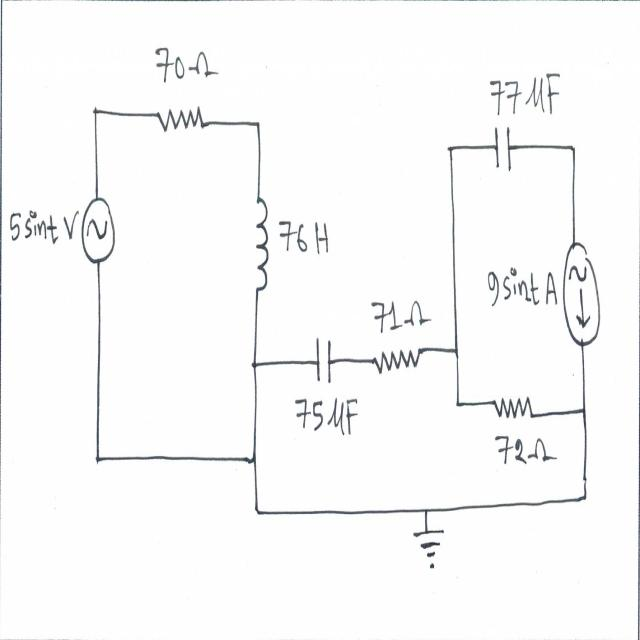ac_current: (81, 177, 116, 279)
capacitor: (492, 116, 514, 180), (313, 326, 334, 388)
current_source: (558, 230, 604, 352)
ground: (412, 527, 451, 581)
inductor: (250, 186, 272, 310)
resistor: (154, 96, 210, 148), (369, 337, 426, 384), (486, 389, 540, 429)
